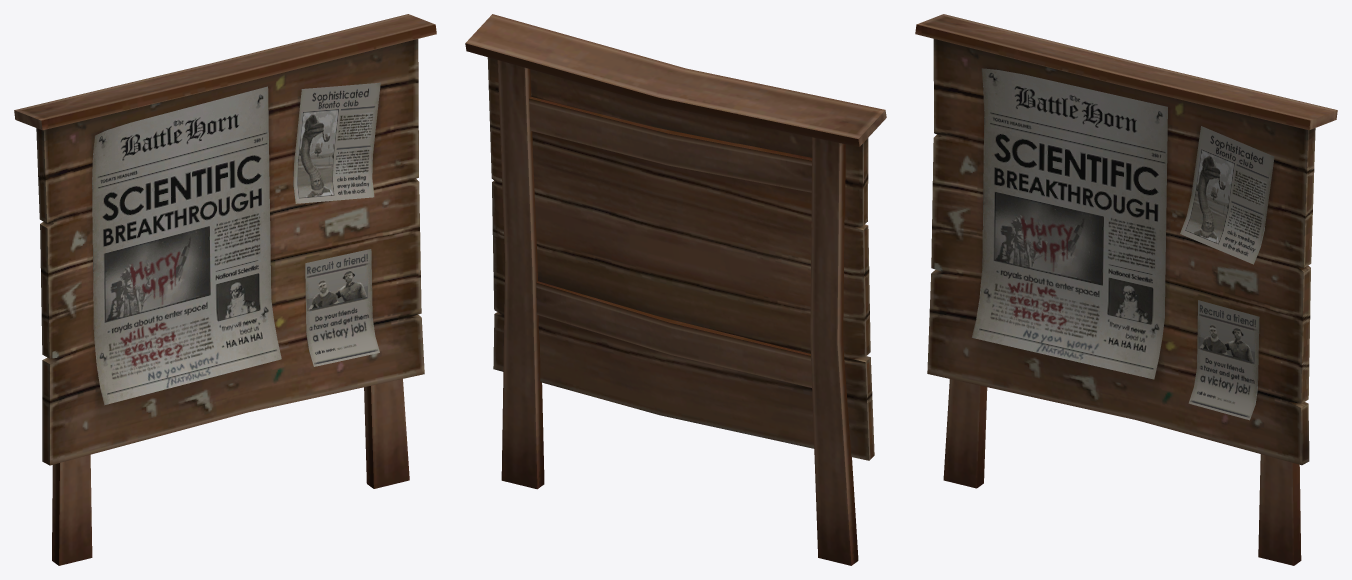
The model's file is billboard_01.fbx.
The picture shows the model from 3 angles, left to right: view 1: azimuth 30°, elevation 25°; view 2: azimuth 150°, elevation 25°; view 3: azimuth 330°, elevation 25°; orthographic projection.
Parts seen in each view (by area): view 1: GEOM0_LOD0; view 2: GEOM0_LOD0; view 3: GEOM0_LOD0.
Part boxes in pixels (x1,y1,x2,y2): GEOM0_LOD0: [14, 14, 436, 565]; GEOM0_LOD0: [465, 14, 886, 565]; GEOM0_LOD0: [915, 14, 1337, 565].
Size of what is drawn, in the model's own units: 174 by 191 by 26.12.
